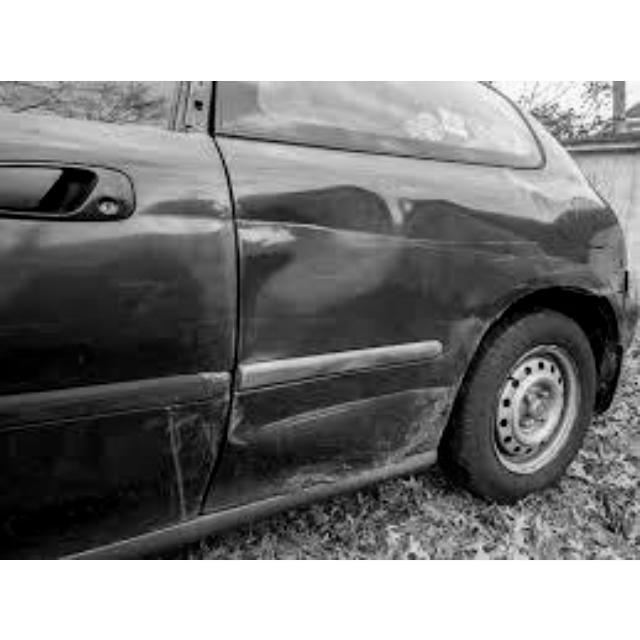quaterpanel-dent: (240, 155, 484, 486)
